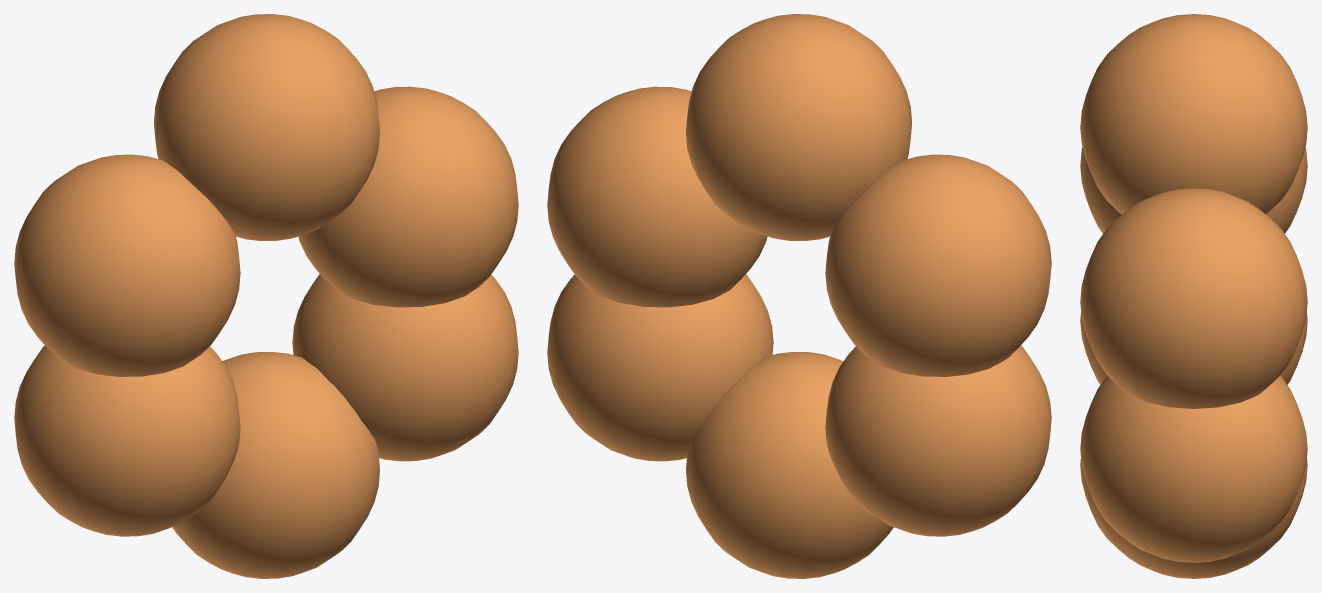
The model's file is ORANGEBACTERIA.fbx.
The picture shows the model from 3 angles, left to right: view 1: azimuth 30°, elevation 25°; view 2: azimuth 150°, elevation 25°; view 3: azimuth 270°, elevation 25°; orthographic projection.
Visible parts, largest first — view 1: pSphere143; view 2: pSphere143; view 3: pSphere143.
Boxes of the visible parts, box(x1,y1,x2,y2) form: pSphere143: box(14, 14, 518, 578); pSphere143: box(547, 14, 1051, 578); pSphere143: box(1080, 14, 1307, 578).
Bounding box in the file's own units: 7.23 × 7.91 × 3.
